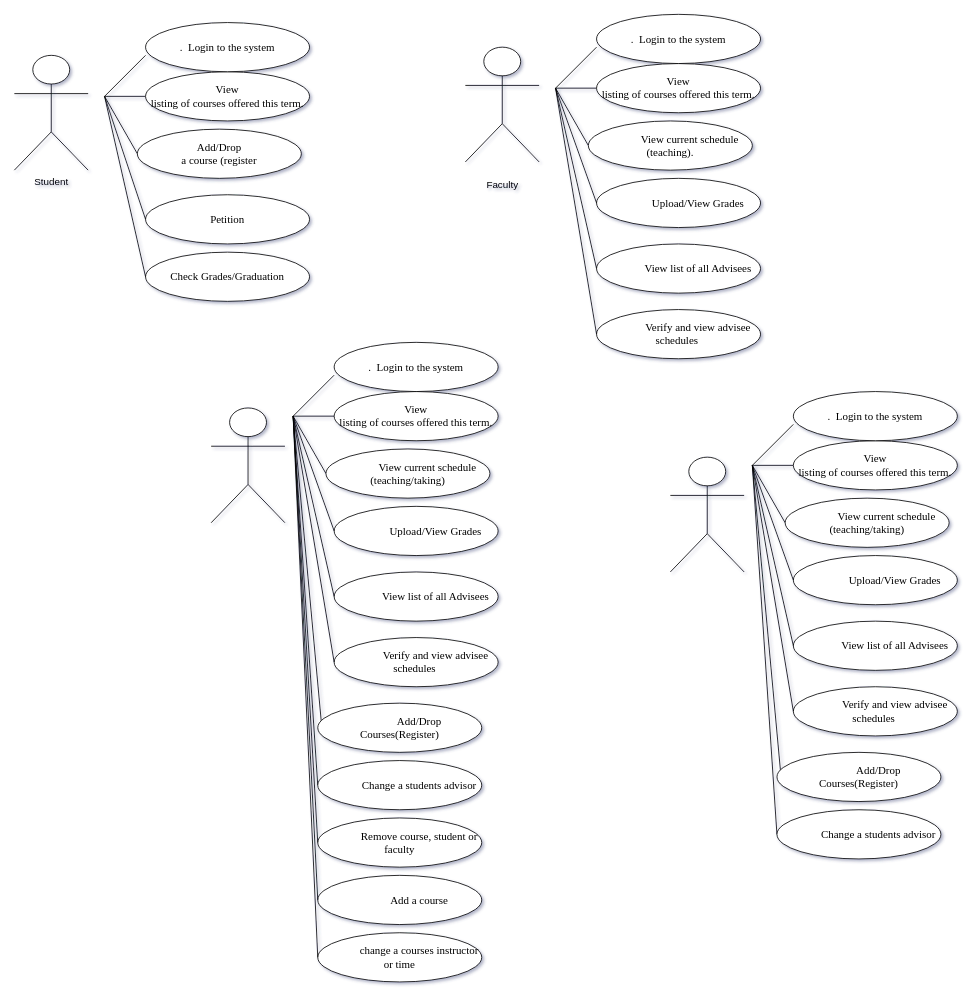
Some shapes in this 977 by 1001 pixel diagram are drawn without their labels. Here are the shapes that lost their labels. From the top down, the box of each, then its label:
(210, 407, 285, 523): Admin(Manager)
(670, 456, 744, 572): Admin
